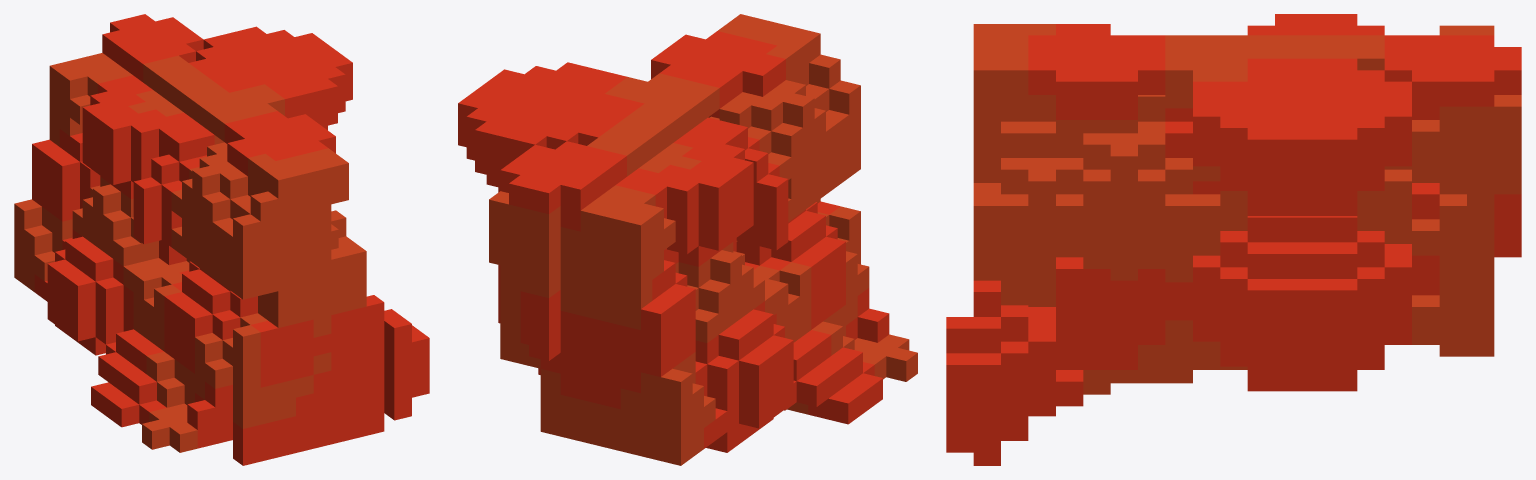
File: exite1 (stone3).obj
3 views of the same model, side by side, from view 1: azimuth 30°, elevation 25°; view 2: azimuth 150°, elevation 25°; view 3: azimuth 270°, elevation 25° (orthographic). The views are drawn at different scales.
Size of the model in its own units: 1.6 by 1.5 by 2.1.
1 material, 1 textured.
